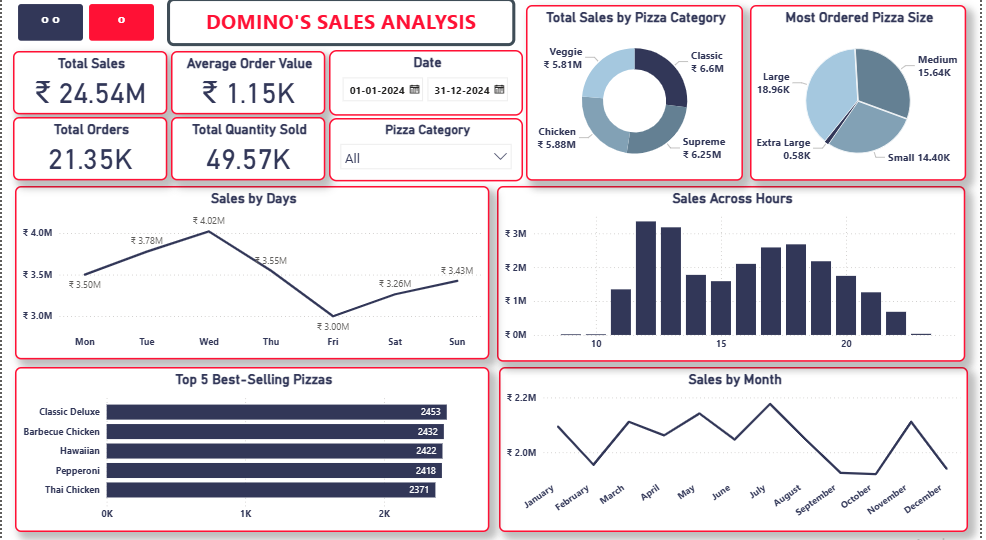

The dashboard page shown, as its layout file describes it:
{"tool":"powerbi","page":{"name":"Page 1","canvas":[1280,720],"ordinal":0},"visuals":[{"type":"card","title":"Total Sales","fields":{"Values":["Sum(Dataset.Sales)"]},"box":[14.3,74.3,201.7,83.2],"z":0},{"type":"lineChart","title":"Sales by Month","fields":{"Category":["Dataset.order_date.Variation.Date Hierarchy.Month"],"Y":["Sum(Dataset.Sales)"]},"box":[650,488.6,614.3,215.7],"z":1000},{"type":"columnChart","title":"Sales Across Hours","fields":{"Category":["Dataset.Hour"],"Y":["Sum(Dataset.Sales)"]},"box":[648.6,251.4,612.9,230],"z":2000},{"type":"lineChart","title":"Sales by Days","fields":{"Y":["Sum(Dataset.Sales)"],"Category":["Dataset.DayName"]},"box":[17.1,251.4,621.4,227.1],"z":3000},{"type":"textbox","box":[215.7,5.7,455.7,62.9],"z":4000},{"type":"card","title":"Average Order Value","fields":{"Values":["Dataset.Average Order Value"]},"box":[220.9,74.3,201.7,83.2],"z":5000},{"type":"donutChart","title":"Total Sales by Pizza Category","fields":{"Category":["Dataset.pizza_category"],"Y":["Dataset.Total_Sales"]},"box":[686.5,14.6,284.3,230],"z":6000},{"type":"barChart","title":"Top 5 Best-Selling Pizzas","fields":{"Category":["Dataset.pizza_name"],"Y":["Sum(Dataset.quantity)"]},"box":[17.1,488.6,621.4,215.7],"z":7000},{"type":"pieChart","title":"Most Ordered Pizza Size","fields":{"Category":["Dataset.Pizza_size"],"Y":["Sum(Dataset.quantity)"]},"box":[979.4,14.6,282.9,230],"z":8000},{"type":"card","title":"Total Orders","fields":{"Values":["Dataset.Total Orders"]},"box":[14.6,161,201.7,83.2],"z":9000},{"type":"card","title":"Total Quantity Sold","fields":{"Values":["Sum(Dataset.quantity)"]},"box":[221.2,161,201.7,83.2],"z":10000},{"type":"group","id":"g1","title":"Group 1","box":[17.1,8.6,185.7,55.7],"z":11000},{"type":"textbox","box":[110,8.6,92.9,55.7],"z":11000,"group":"g1"},{"type":"textbox","box":[17.1,8.6,92.9,55.7],"z":12000,"group":"g1"},{"type":"slicer","title":"Date","fields":{"Values":["Dataset.order_date"]},"box":[428.6,72.9,254.3,85.7],"z":12000},{"type":"slicer","title":"Pizza Category","fields":{"Values":["Dataset.pizza_category"]},"box":[428.6,162.9,254.3,82.9],"z":13000}]}

Visuals, with their boxes in screenshot pixels (x1, y1, x2, y2), scaled from the page's 1280x720 canvas onto the 986x540 screenshot:
"Total Sales" card: (11,56,166,118)
"Sales by Month" lineChart: (501,366,974,528)
"Sales Across Hours" columnChart: (500,189,972,361)
"Sales by Days" lineChart: (13,189,492,359)
textbox: (166,4,517,51)
"Average Order Value" card: (170,56,326,118)
"Total Sales by Pizza Category" donutChart: (529,11,748,183)
"Top 5 Best-Selling Pizzas" barChart: (13,366,492,528)
"Most Ordered Pizza Size" pieChart: (754,11,972,183)
"Total Orders" card: (11,121,167,183)
"Total Quantity Sold" card: (170,121,326,183)
"Group 1" group: (13,6,156,48)
textbox: (85,6,156,48)
textbox: (13,6,85,48)
"Date" slicer: (330,55,526,119)
"Pizza Category" slicer: (330,122,526,184)
